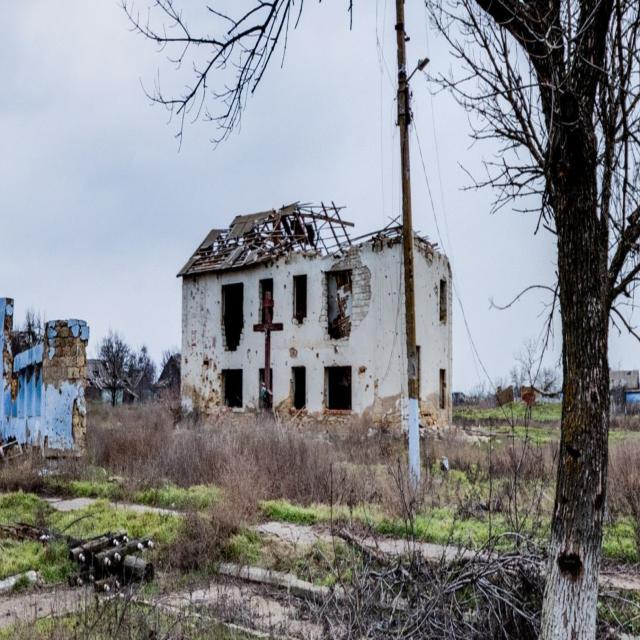broken_window: (326, 268, 352, 340), (220, 282, 243, 352), (323, 364, 352, 412), (220, 368, 242, 408), (258, 277, 274, 325), (292, 273, 307, 323), (291, 365, 306, 411)
building: (176, 199, 453, 438), (0, 296, 90, 459)
